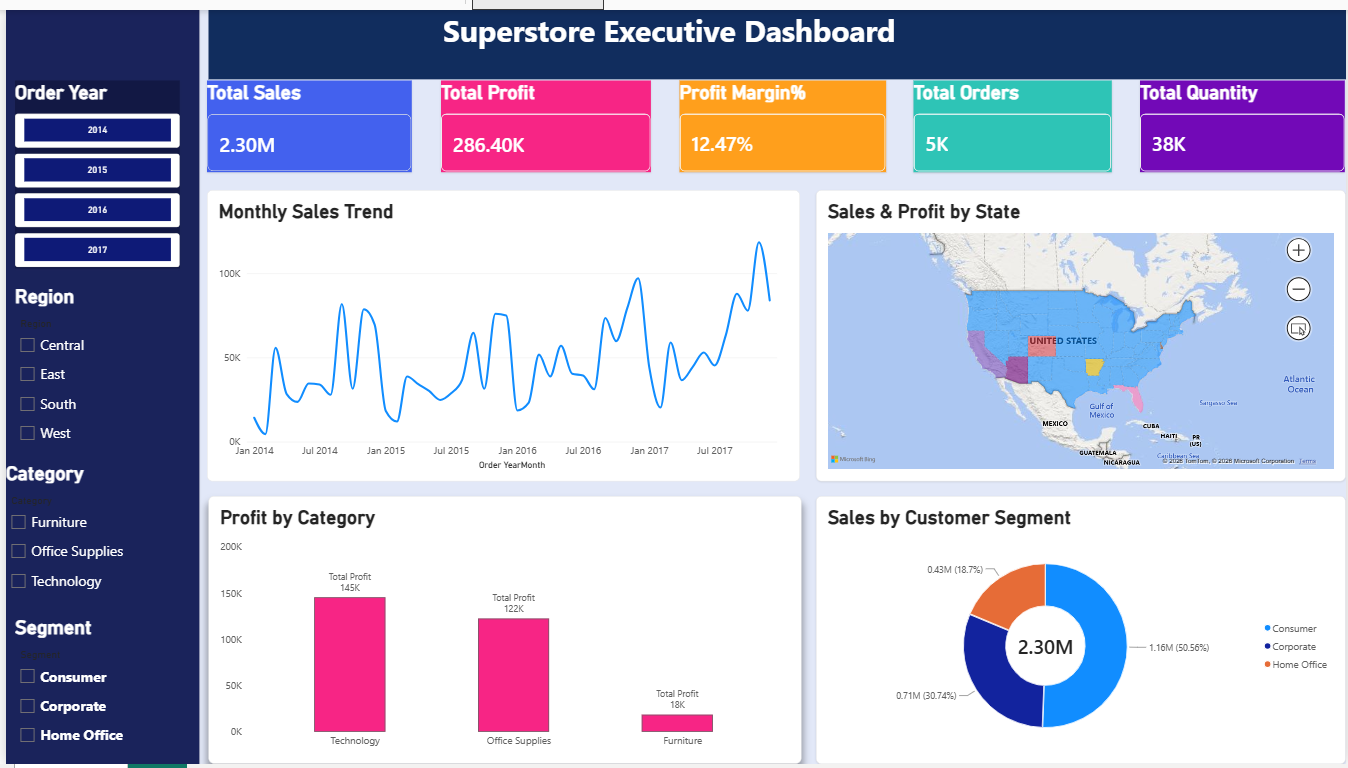

What the dashboard file says about the page in this screenshot:
{"tool":"powerbi","page":{"name":"Page 1","canvas":[1920,1080],"ordinal":0},"visuals":[{"type":"textbox","box":[289.1,0,1629.9,99.2],"z":1000},{"type":"shape","box":[0,0,277.1,1081.1],"z":1500},{"type":"cardVisual","title":"Total Profit","fields":{"Data":["Cleaned_Superstore.Total Profit"]},"box":[622.7,100.2,300.6,131.2],"z":2000},{"type":"cardVisual","title":"Profit Margin%","fields":{"Data":["Cleaned_Superstore.Profit Margin %"]},"box":[963.9,100.2,295.9,131.2],"z":3000},{"type":"cardVisual","title":"Total Orders","fields":{"Data":["Cleaned_Superstore.Total Orders"]},"box":[1300.3,100.2,283.9,131.2],"z":4000},{"type":"cardVisual","title":"Total Quantity","fields":{"Data":["Cleaned_Superstore.Total Quantity"]},"box":[1624.8,100.2,293.5,131.2],"z":5000},{"type":"cardVisual","title":"Total Sales","fields":{"Data":["Cleaned_Superstore.Total Sales"]},"box":[288.7,100.2,293.5,131.2],"z":6000},{"type":"advancedSlicerVisual","fields":{"Values":["Cleaned_Superstore.Order Year"]},"box":[11.9,100.2,236.2,269.6],"z":6500},{"type":"lineChart","title":"Monthly Sales Trend","fields":{"Category":["Cleaned_Superstore.Order YearMonth"],"Y":["Cleaned_Superstore.Total Sales"]},"box":[288.7,257.7,849.4,417.5],"z":7000},{"type":"clusteredColumnChart","title":"Profit by Category","fields":{"Category":["Cleaned_Superstore.Category"],"Y":["Cleaned_Superstore.Total Profit"]},"box":[289,697,849,383],"z":8000},{"type":"slicer","title":"Region","fields":{"Values":["Cleaned_Superstore.Region"]},"box":[11.9,393.7,276.8,252.9],"z":8500},{"type":"filledMap","title":" Sales & Profit by State","fields":{"Category":["Cleaned_Superstore.State"]},"box":[1159.6,257.7,758.7,417.5],"z":9000},{"type":"donutChart","title":" Sales by Customer Segment","fields":{"Category":["Cleaned_Superstore.Segment"],"Y":["Cleaned_Superstore.Total Sales"]},"box":[1159.6,696.7,758.7,384.1],"z":10000},{"type":"slicer","title":"Category","fields":{"Values":["Cleaned_Superstore.Category"]},"box":[0,646.6,276.8,193.3],"z":10001},{"type":"slicer","title":"Segment","fields":{"Values":["Cleaned_Superstore.Segment"]},"box":[11.9,868.5,276.8,212.3],"z":10002}]}

Visuals, with their boxes in screenshot pixels (x1, y1, x2, y2), scaled from the page's 1920x1080 canvas onto the 1348x768 screenshot:
textbox: 203, 0, 1347, 71
shape: 0, 0, 195, 767
"Total Profit" cardVisual: 437, 71, 648, 165
"Profit Margin%" cardVisual: 677, 71, 884, 165
"Total Orders" cardVisual: 913, 71, 1112, 165
"Total Quantity" cardVisual: 1141, 71, 1347, 165
"Total Sales" cardVisual: 203, 71, 409, 165
advancedSlicerVisual - Cleaned_Superstore.Order Year: 8, 71, 174, 263
"Monthly Sales Trend" lineChart: 203, 183, 799, 480
"Profit by Category" clusteredColumnChart: 203, 496, 799, 767
"Region" slicer: 8, 280, 203, 460
" Sales & Profit by State" filledMap: 814, 183, 1347, 480
" Sales by Customer Segment" donutChart: 814, 495, 1347, 767
"Category" slicer: 0, 460, 194, 597
"Segment" slicer: 8, 618, 203, 767
